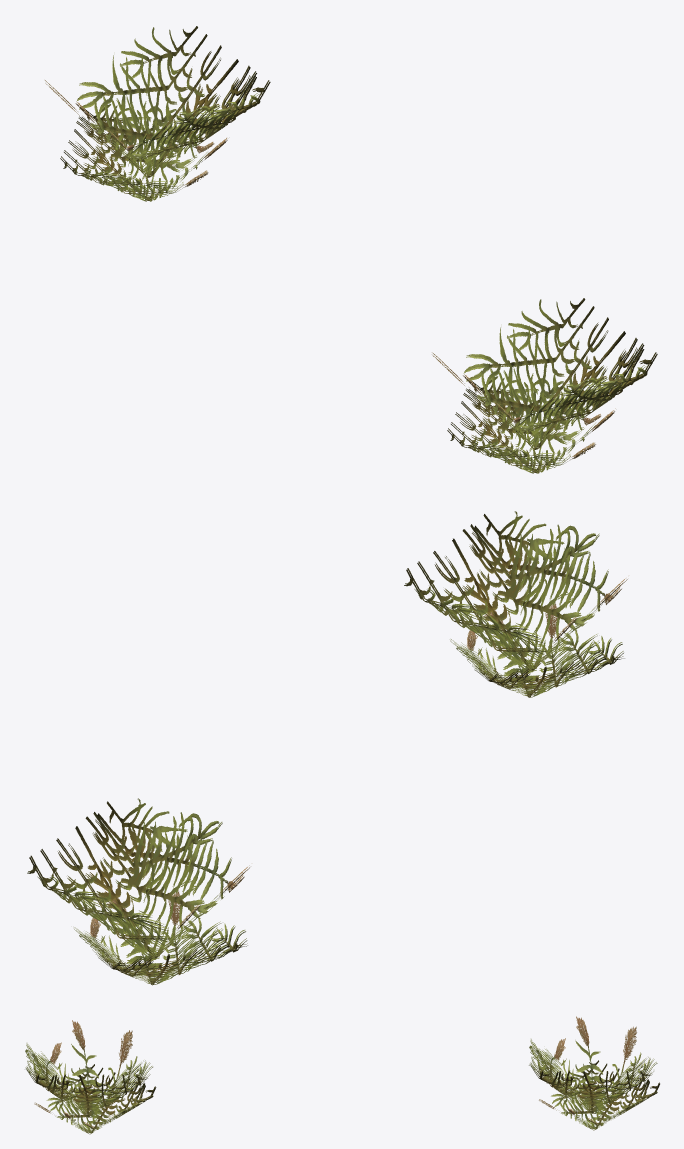
The model's file is farmstead_f.dae.
The picture shows the model from 3 angles, top to bottom: view 1: azimuth 30°, elevation 25°; view 2: azimuth 150°, elevation 25°; view 3: azimuth 270°, elevation 25°; orthographic projection. The views are drawn at different scales.
Visible parts, largest first — view 1: farmstead_f; view 2: farmstead_f; view 3: farmstead_f.
Part boxes in pixels (x1,y1,x2,y2): farmstead_f: (45, 26, 657, 473); farmstead_f: (27, 511, 627, 985); farmstead_f: (25, 1016, 659, 1134).
Size of the model in its own units: 4.34 by 17.71 by 2.64.
